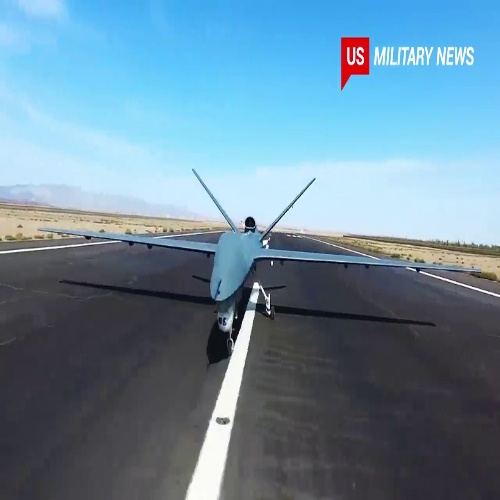uav310: (34, 163, 484, 343)
